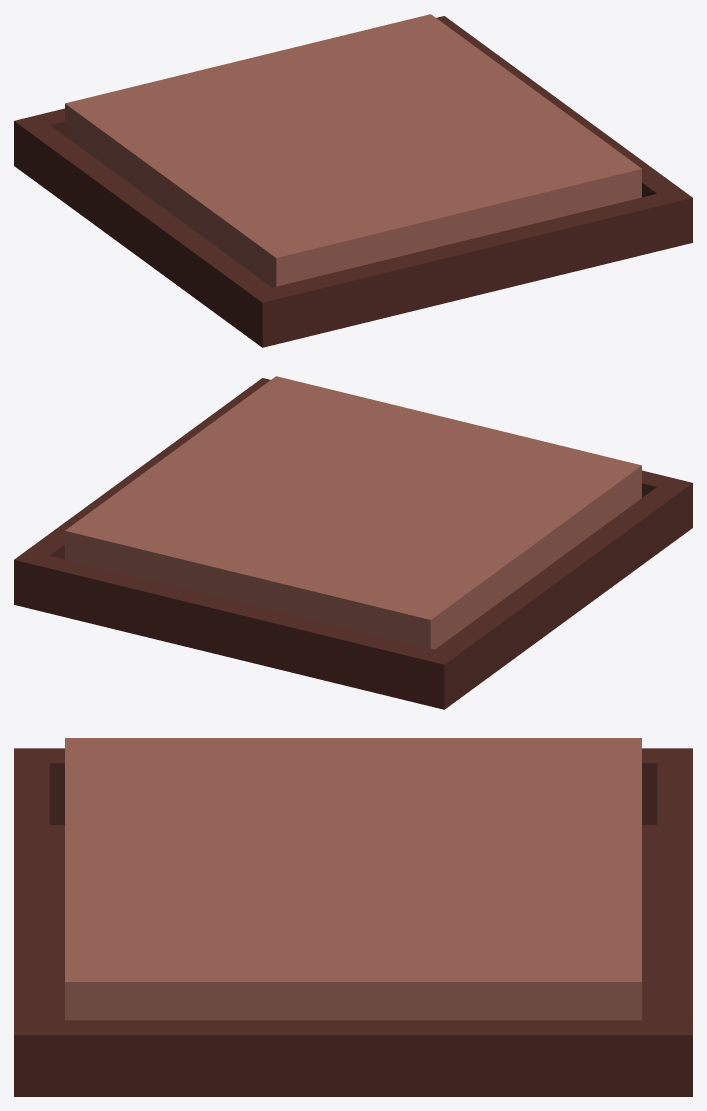
File: pressure_plate.glb
3 views of the same model, one above another, from view 1: azimuth 30°, elevation 25°; view 2: azimuth 150°, elevation 25°; view 3: azimuth 270°, elevation 25° (orthographic). The views are drawn at different scales.
Visible parts, largest first — view 1: Plate, Border; view 2: Plate, Border; view 3: Plate, Border.
Part boxes in pixels (x1,y1,x2,y2): Plate: (65,14,641,287); Border: (14,16,692,347); Plate: (65,376,641,649); Border: (14,378,692,709); Plate: (65,738,641,1020); Border: (14,748,692,1096).
Size of the model in its own units: 2 by 0.3032 by 2.
